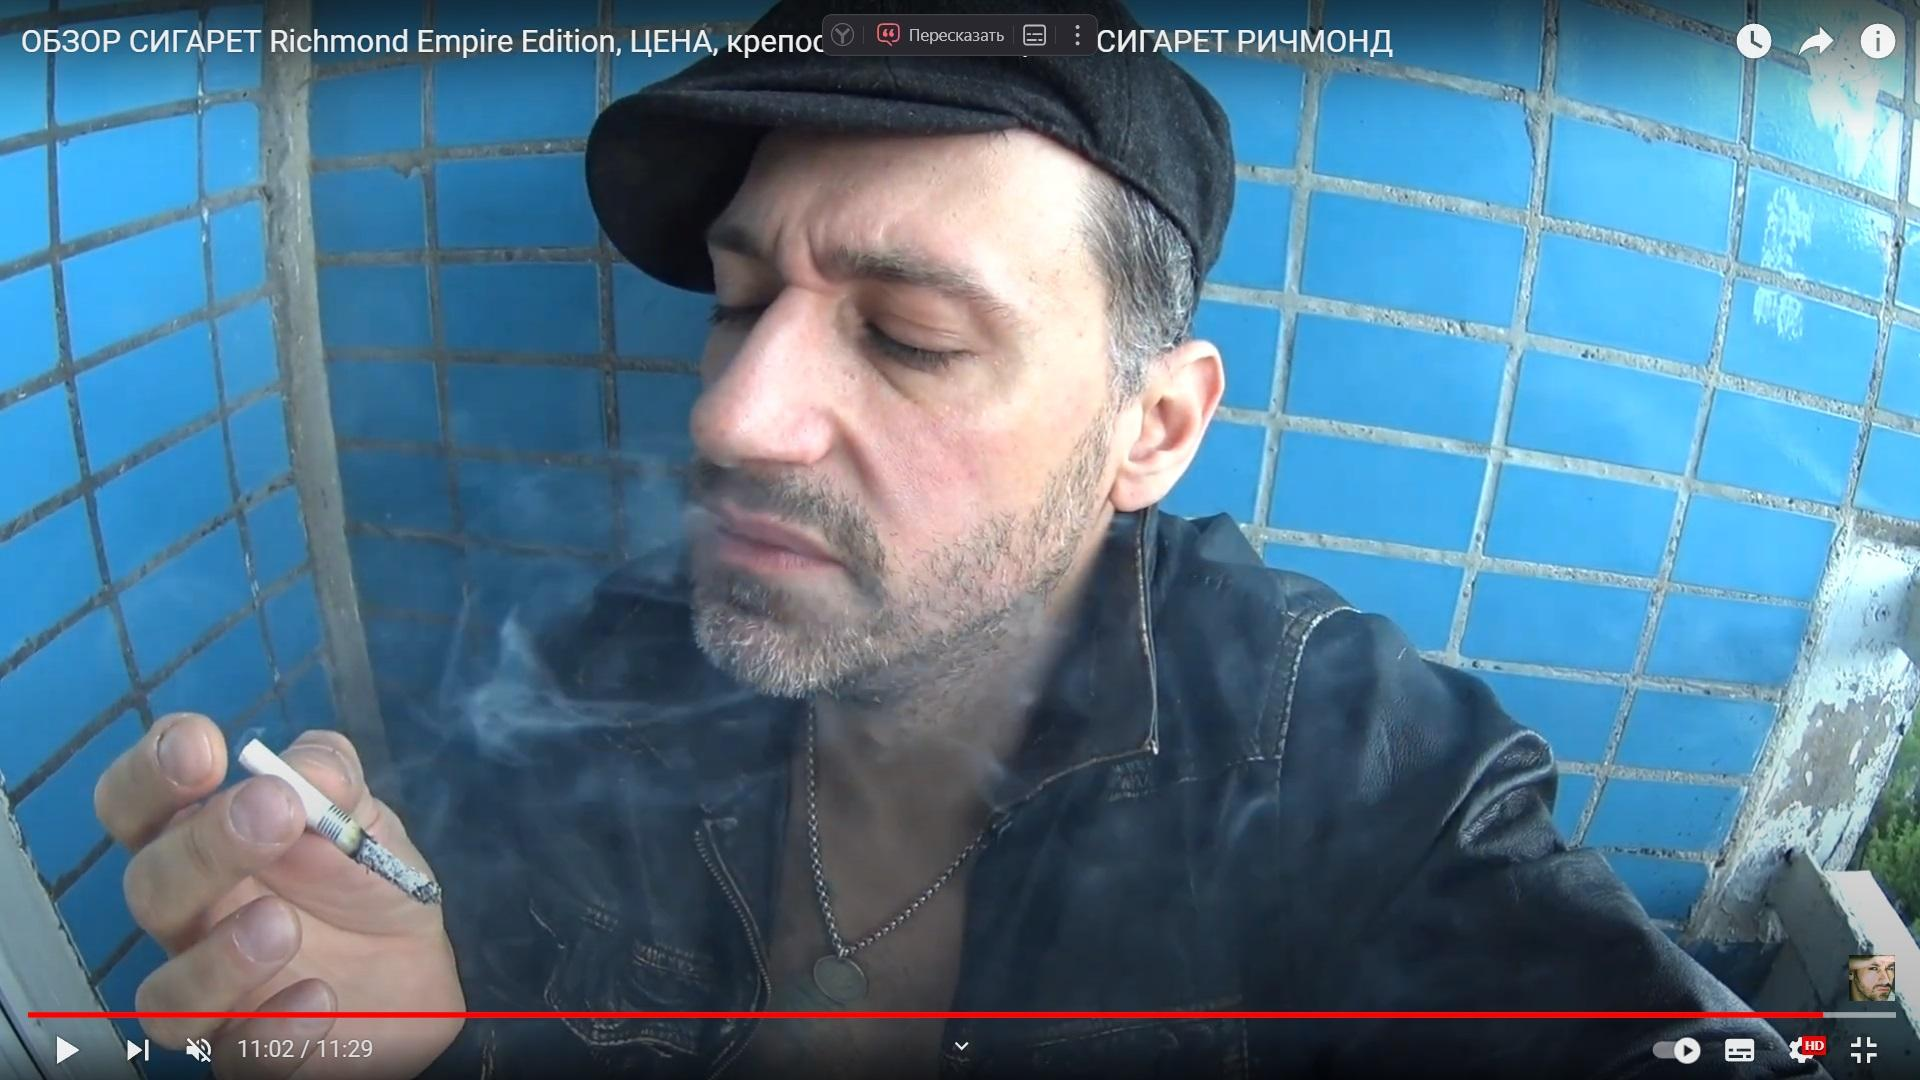cigarette: (236, 738, 443, 903)
